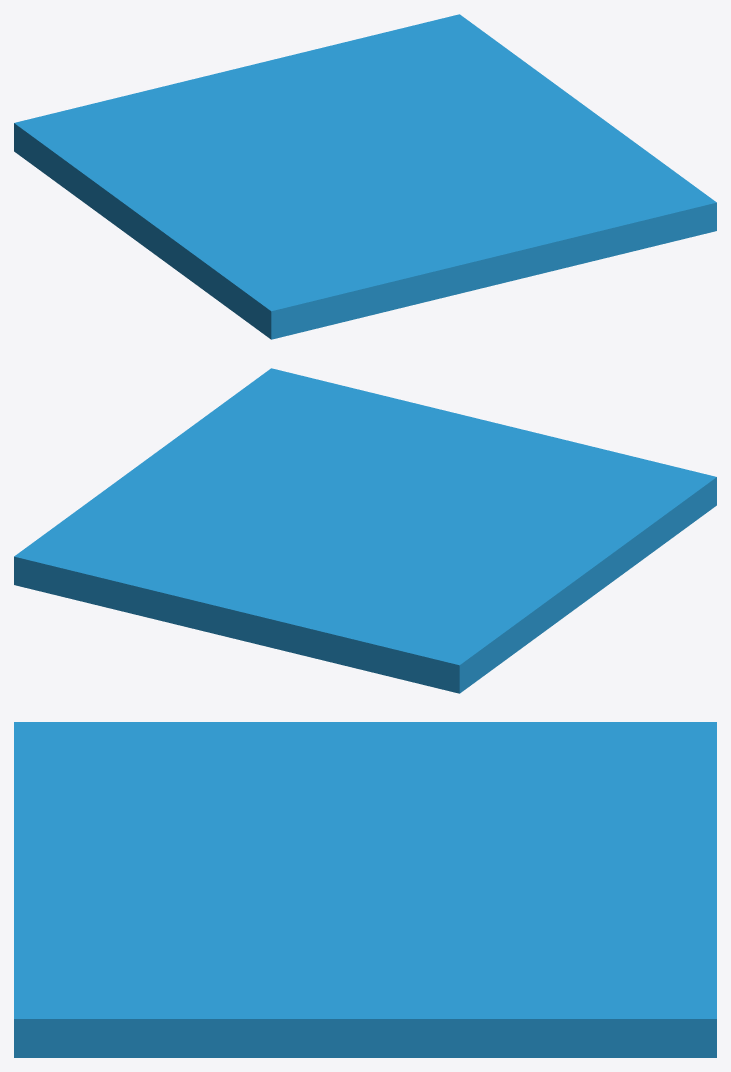
File: glace.fbx
3 views of the same model, one above another, from view 1: azimuth 30°, elevation 25°; view 2: azimuth 150°, elevation 25°; view 3: azimuth 270°, elevation 25° (orthographic). The views are drawn at different scales.
Visible parts, largest first — view 1: Cube.001; view 2: Cube.001; view 3: Cube.001.
Part boxes in pixels (bbox=[...]): Cube.001: bbox=[14, 14, 716, 339]; Cube.001: bbox=[14, 368, 716, 693]; Cube.001: bbox=[14, 722, 716, 1057].
Bounding box in the file's own units: 2000 × 122 × 2000.
